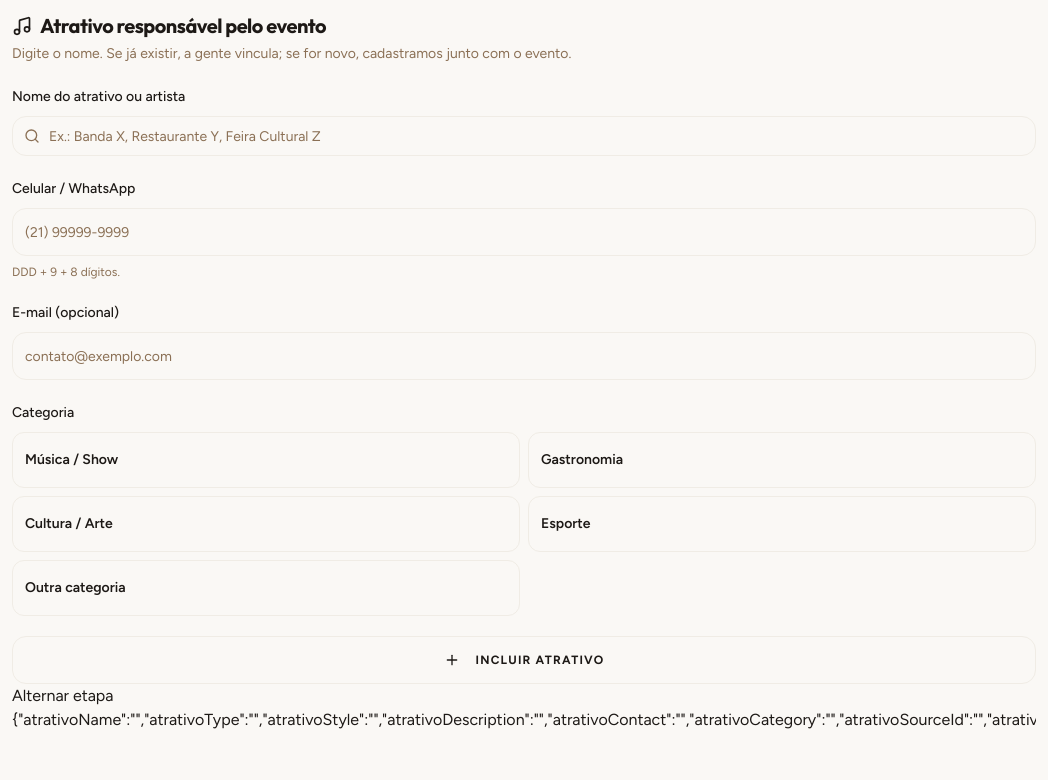
AtrativoStep autocomplete › mostra sugestões da tabela atrativos e de artist_profiles aprovados ao digitar 2+ caracteres
Type "te" into the field with placeholder "Ex.: Banda X, Restaurante Y, Feira Cultural Z" at (524, 136), box [12,116,1036,156]
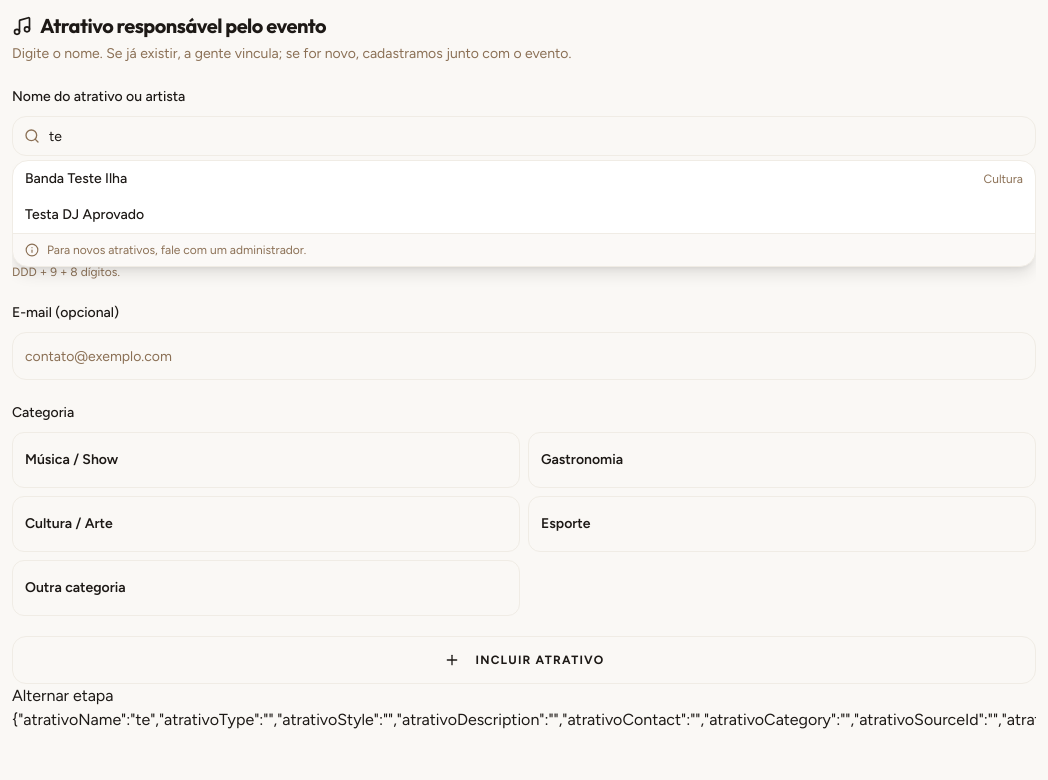
expect the text "Banda Teste Ilha" is shown: met, box [25,169,127,189]
expect the text "Testa DJ Aprovado" is shown: met, box [25,205,144,225]
